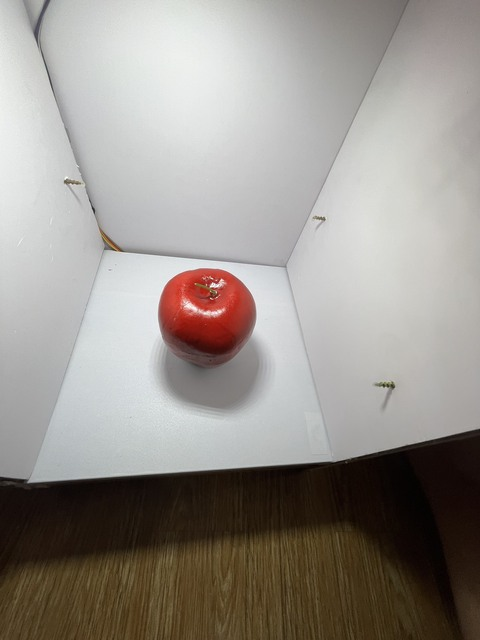Tao: (158, 263, 262, 375)
